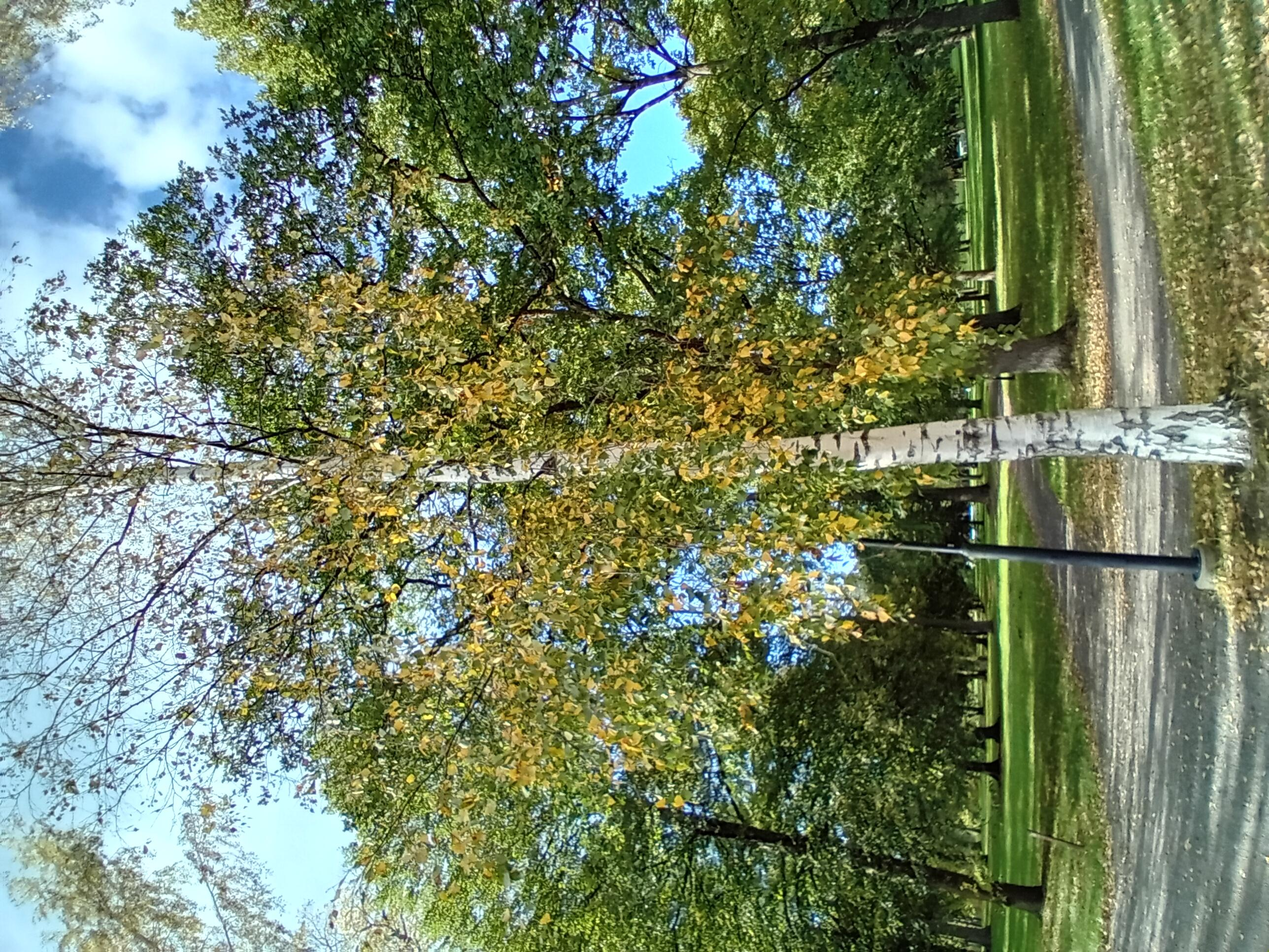Birch: (7, 1, 1263, 940), (237, 0, 993, 935)
